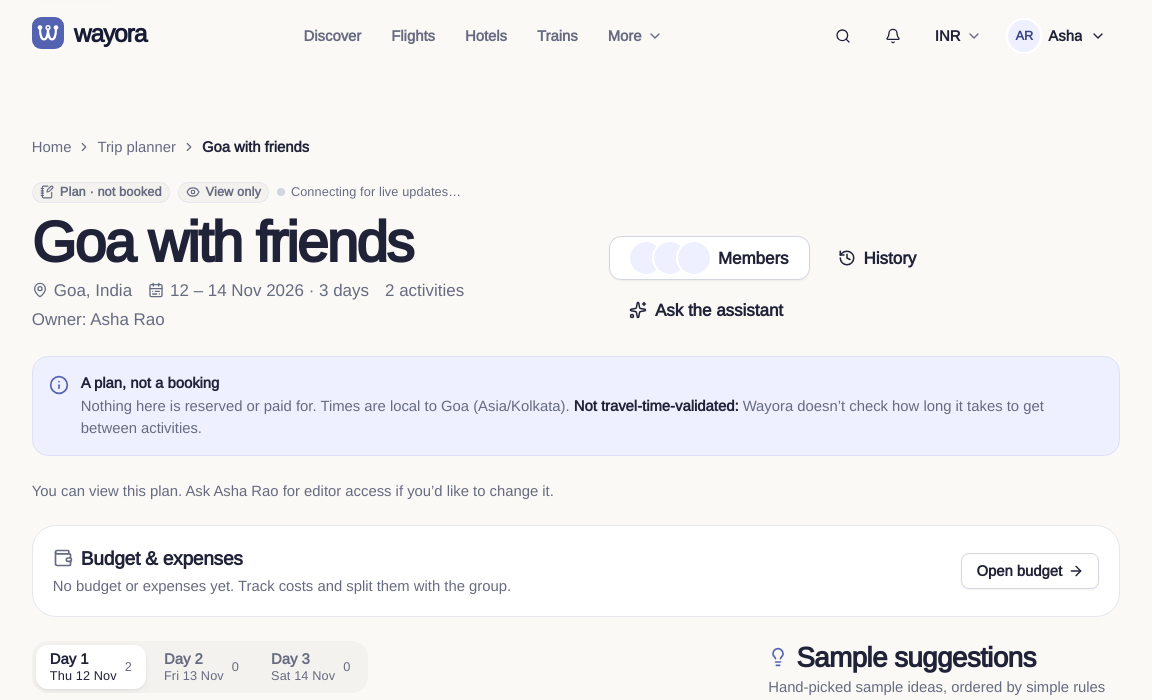
Test case: controls follow the role › a viewer can browse everything but sees no edit controls
The width and height of the screenshot is (1152, 700).
Expected: the heading "Goa with friends" is shown, [32, 206, 412, 274]
Expected: the text "View only" is shown, [178, 182, 269, 203]
Note: Browsing is fine: members and history open.
Click the button "Members".
click(709, 258)  # box [609, 236, 810, 280]
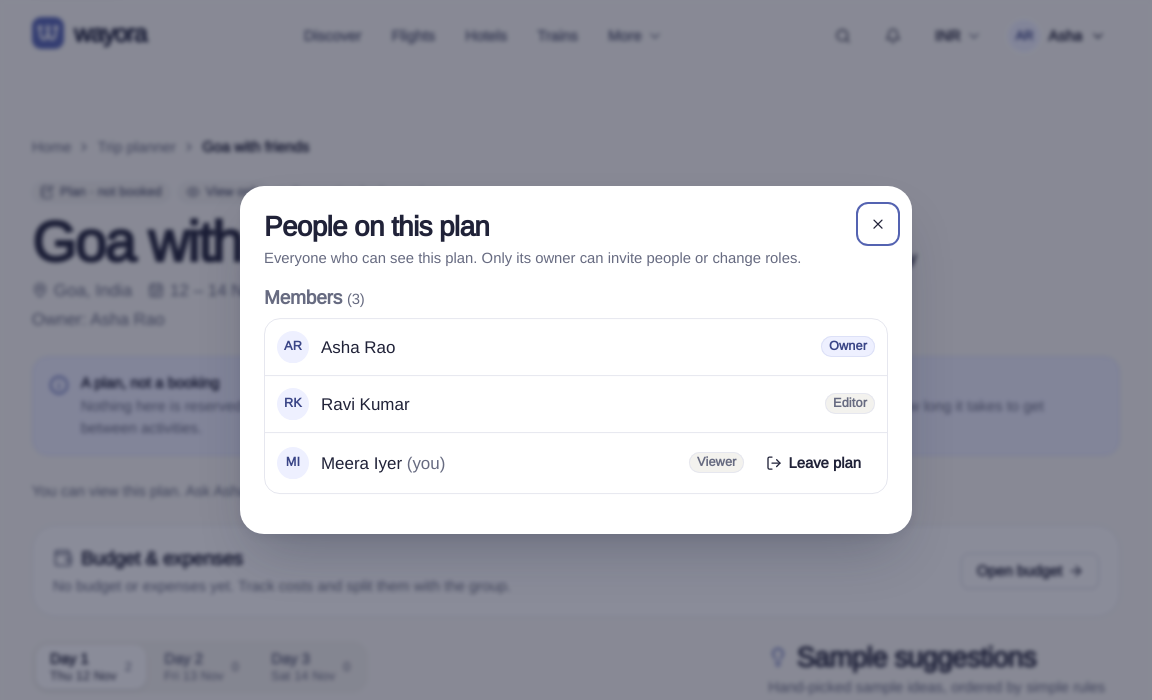
Expected: the text "Ravi Kumar" is shown, [321, 393, 410, 414]
Expected: the button "Leave plan" is shown, [752, 445, 875, 481]
